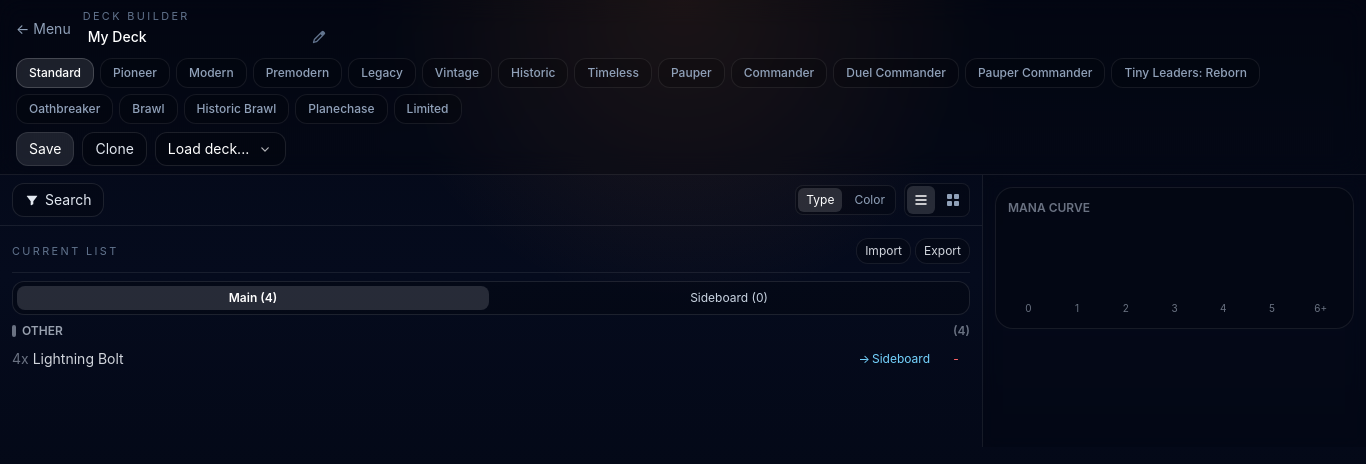
DeckBuilder › clones a deck into a new copy without deleting the original
This screenshot has width=1366, height=464.
expect the field named "Deck name" holds "My Deck": met, box left=83, top=24, right=332, bottom=50
Click the button "Clone" at (115, 149), box left=82, top=132, right=147, bottom=166
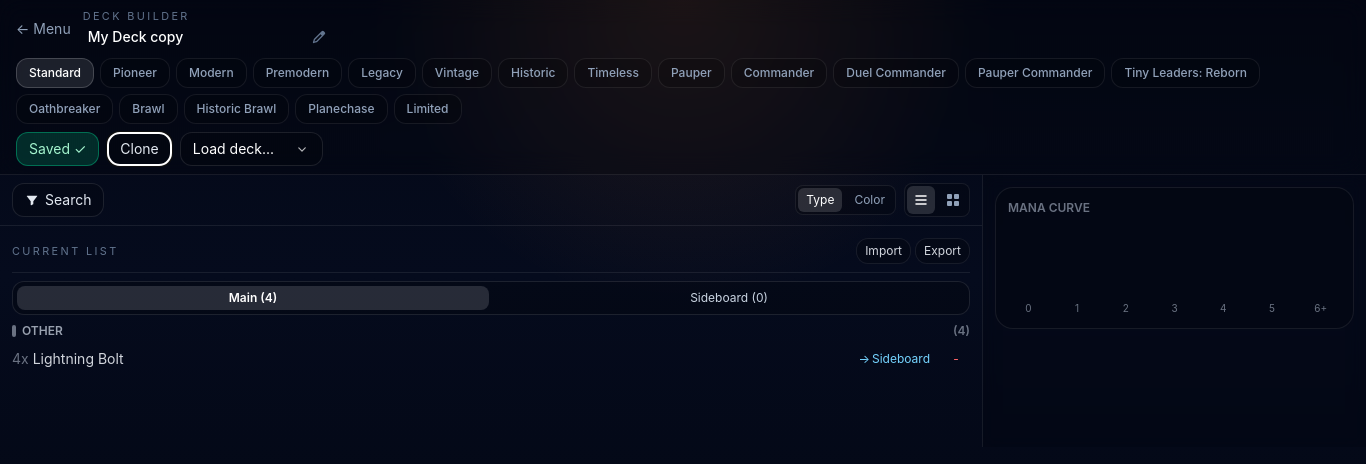
expect the field named "Deck name" holds "My Deck copy": met, box left=83, top=24, right=332, bottom=50
